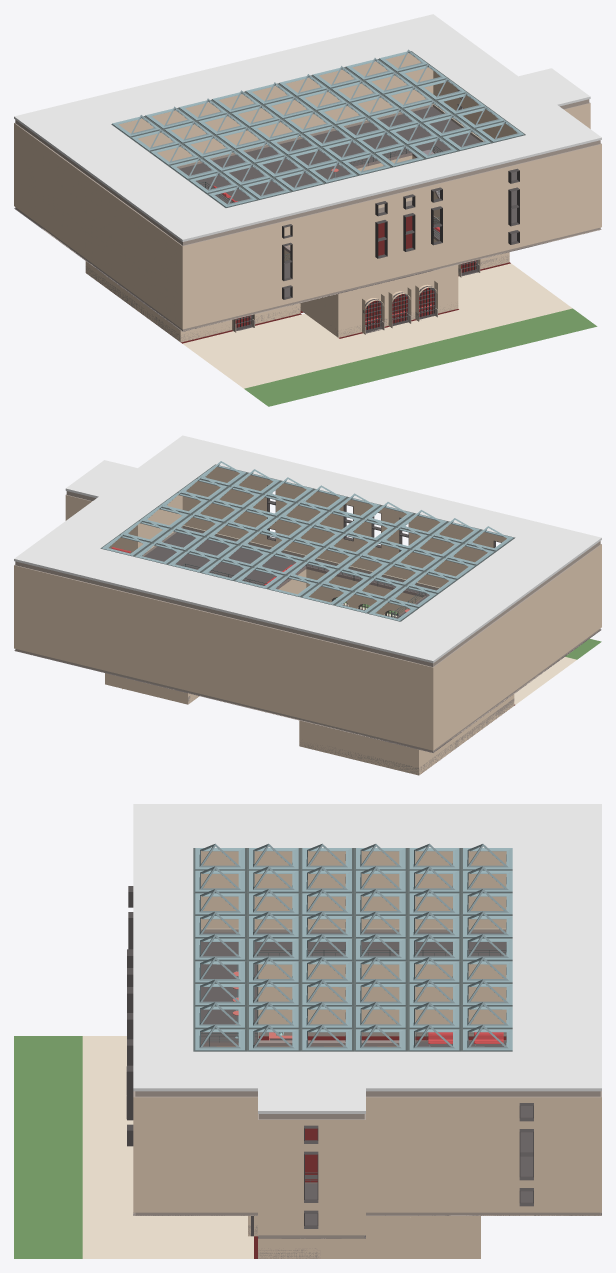
File: Room_Expo.glb
The picture shows the model from 3 angles, top to bottom: view 1: azimuth 30°, elevation 25°; view 2: azimuth 150°, elevation 25°; view 3: azimuth 270°, elevation 25°; orthographic projection. The views are drawn at different scales.
Visible parts, largest first — view 1: Murs, TT_Plafond, Sol_rdc, TT_Puit de lumière, Fenetres, vitres.001, Plinthe rdc, Rampe; view 2: Murs, TT_Plafond, TT_Puit de lumière, Plinthe rdc, Sol_rdc, Rampe, Fenetres; view 3: Murs, TT_Plafond, TT_Puit de lumière, Sol_rdc, Fenetres, Rampe, Fenetres.001, Plinthe rdc, Banc.002.
Part boxes in pixels (x1,y1,x2,y2): Murs: (14,53,601,342); TT_Plafond: (14,14,601,241); Sol_rdc: (181,216,597,406); TT_Puit de lumière: (111,49,525,207); Fenetres: (282,168,519,299); vitres.001: (233,260,477,333); Plinthe rdc: (85,200,509,342); Rampe: (199,145,442,260); Murs: (14,467,601,775); TT_Plafond: (14,435,601,663); TT_Puit de lumière: (100,461,515,621); Plinthe rdc: (187,696,514,775); Sol_rdc: (334,598,601,705); Rampe: (182,563,426,618); Fenetres: (267,485,501,551); Murs: (133,851,601,1258); TT_Plafond: (133,804,601,1113); TT_Puit de lumière: (193,843,512,1051); Sol_rdc: (14,1036,506,1258); Fenetres: (126,886,133,1146); Rampe: (201,949,506,1183); Fenetres.001: (304,1103,533,1228); Plinthe rdc: (248,1032,506,1258); Banc.002: (428,1032,503,1046).
Size of the model in its own units: 53.22 by 17.76 by 42.72.
Materials: 4 (4 with a texture image).
